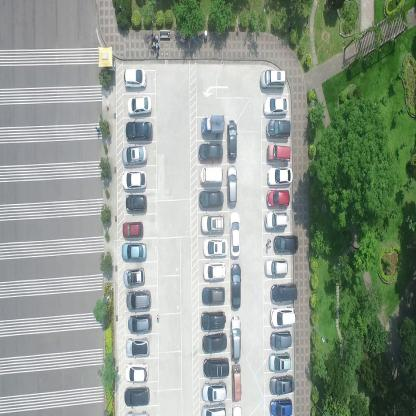car: (259, 67, 287, 90), (270, 282, 298, 305), (125, 119, 153, 142), (229, 262, 241, 310), (270, 306, 296, 328), (200, 309, 226, 331), (203, 356, 229, 378), (201, 380, 227, 402), (124, 385, 150, 407), (122, 264, 145, 288), (199, 114, 224, 136), (273, 234, 299, 255), (269, 375, 295, 396), (202, 332, 228, 353), (122, 145, 148, 166), (126, 289, 152, 310), (197, 191, 225, 210), (230, 211, 241, 259), (230, 314, 241, 362), (202, 260, 226, 282), (124, 67, 148, 89), (127, 96, 152, 117), (124, 361, 149, 382), (265, 189, 291, 209), (198, 143, 224, 163), (200, 214, 226, 234), (262, 96, 289, 115), (267, 142, 291, 163), (199, 165, 223, 186), (128, 313, 152, 334), (227, 164, 238, 209), (266, 120, 292, 139), (267, 166, 293, 185), (202, 237, 228, 256), (121, 171, 147, 190), (121, 242, 147, 261), (265, 210, 289, 230), (126, 337, 150, 357), (226, 119, 237, 162), (263, 258, 289, 276), (268, 352, 292, 371), (270, 330, 292, 350), (269, 397, 293, 415), (201, 286, 225, 304), (122, 220, 144, 239), (232, 364, 242, 404), (125, 194, 147, 212), (201, 403, 228, 415)
